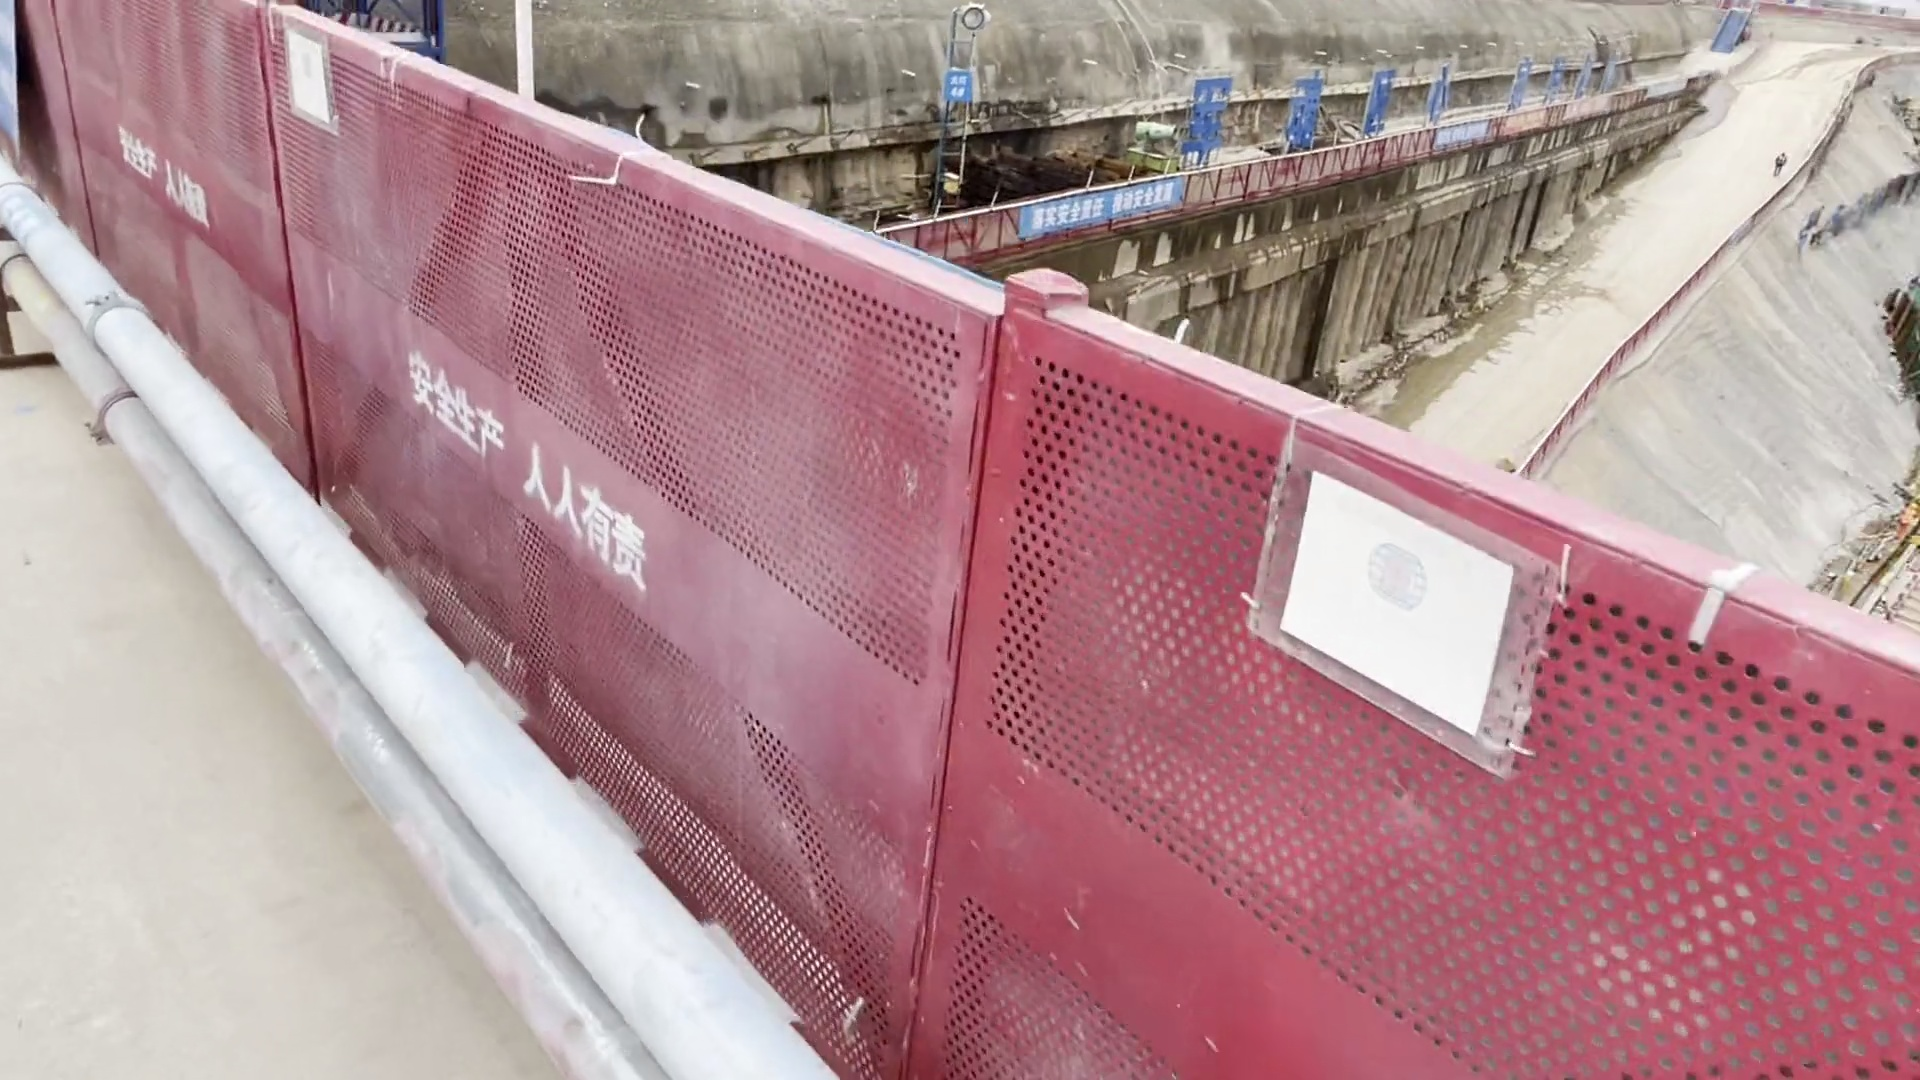fence: (307, 21, 1865, 1011)
